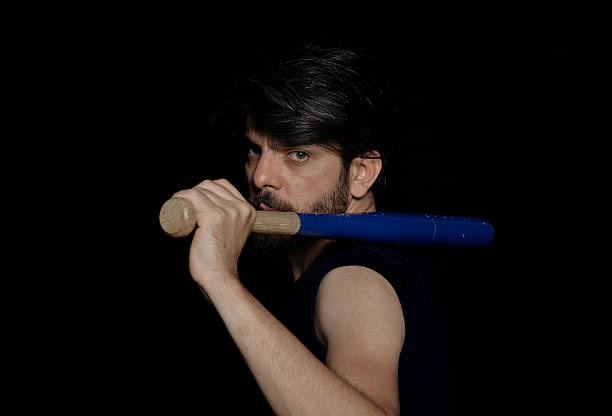bita: (164, 196, 500, 244)
